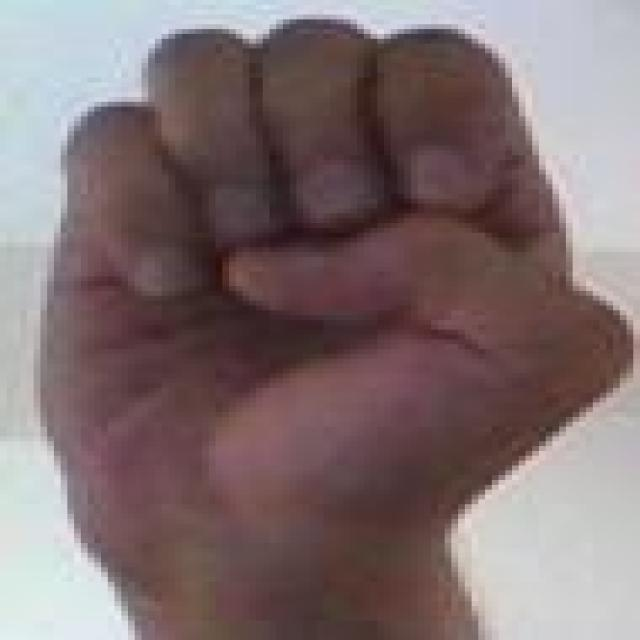E: (4, 8, 640, 588)
